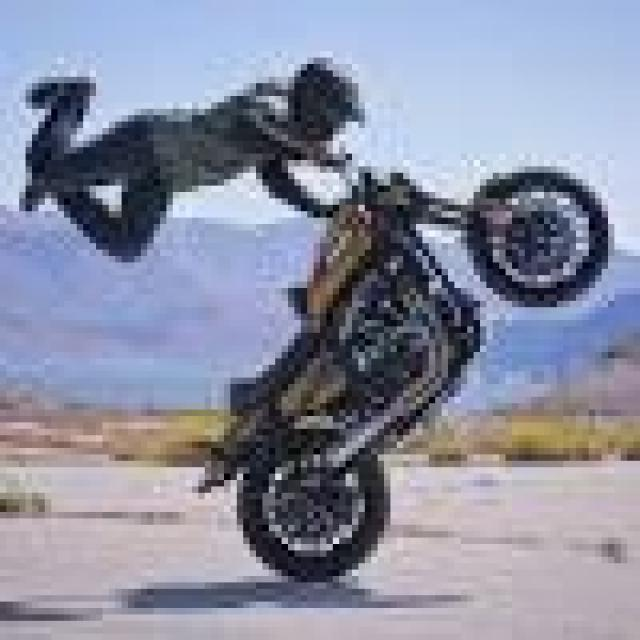Wheeling: (0, 34, 579, 506)
